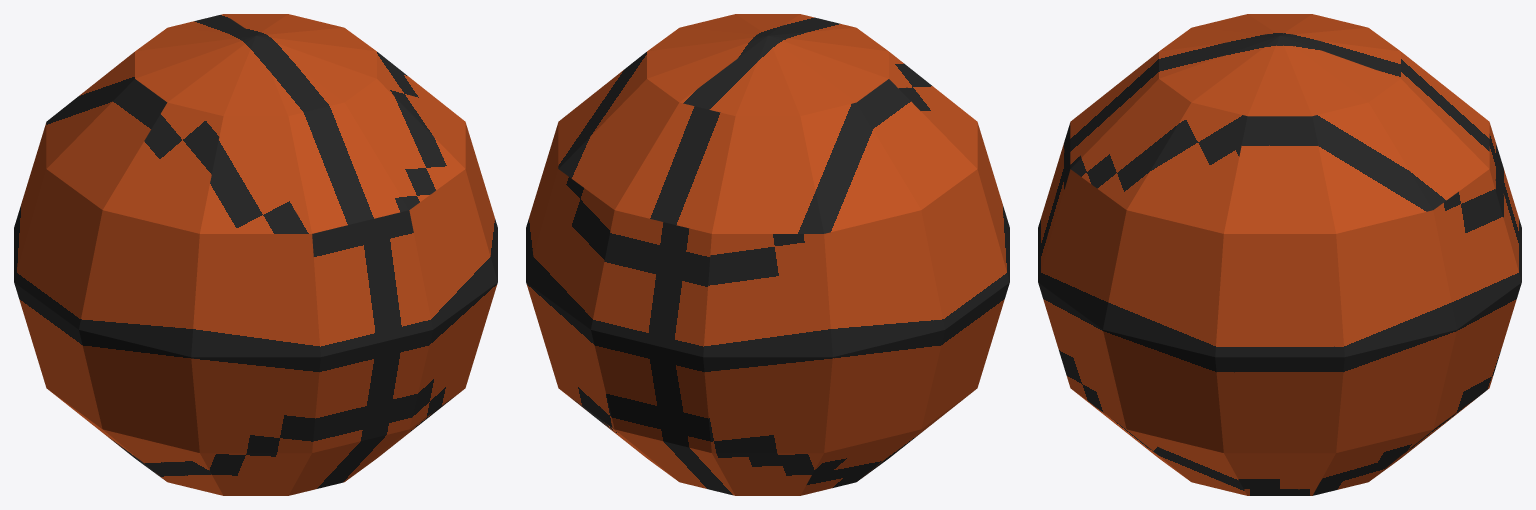
The model's file is bball.gltf.
3 renders of one model, left to right at view 1: azimuth 30°, elevation 25°; view 2: azimuth 150°, elevation 25°; view 3: azimuth 270°, elevation 25°, orthographic.
Parts seen in each view (by area): view 1: sphere; view 2: sphere; view 3: sphere.
Boxes of the visible parts, x1=… form: sphere: x1=14, y1=14, x2=497, y2=495; sphere: x1=526, y1=14, x2=1009, y2=495; sphere: x1=1038, y1=14, x2=1521, y2=495.
Bounding box in the file's own units: 1 × 1 × 1.
1 material, 1 textured.
